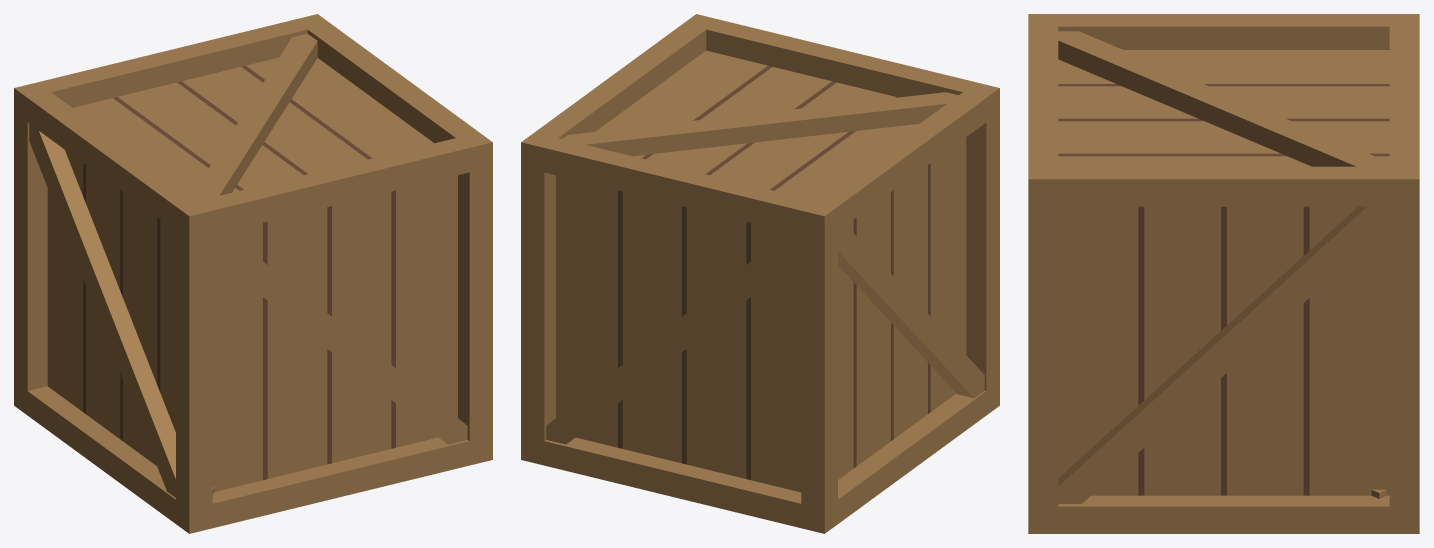
3 renders of one model, left to right at view 1: azimuth 30°, elevation 25°; view 2: azimuth 150°, elevation 25°; view 3: azimuth 270°, elevation 25°, orthographic. The views are drawn at different scales.
Parts seen in each view (by area): view 1: Box_7; view 2: Box_7; view 3: Box_7.
Boxes of the visible parts, x1,y1,x2,y2 form: Box_7: [14, 14, 492, 533]; Box_7: [521, 14, 999, 533]; Box_7: [1028, 14, 1419, 533].
Size of the model in its own units: 0.3731 by 0.3731 by 0.3731.
